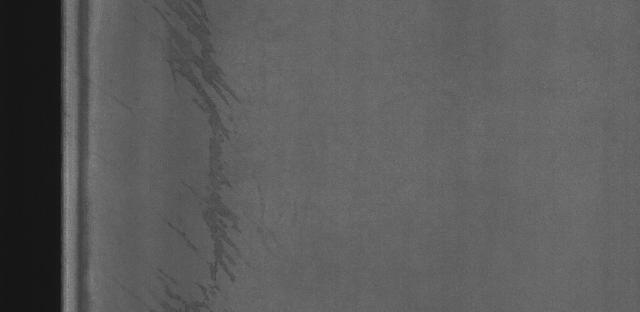water_spot: (149, 5, 266, 303)
